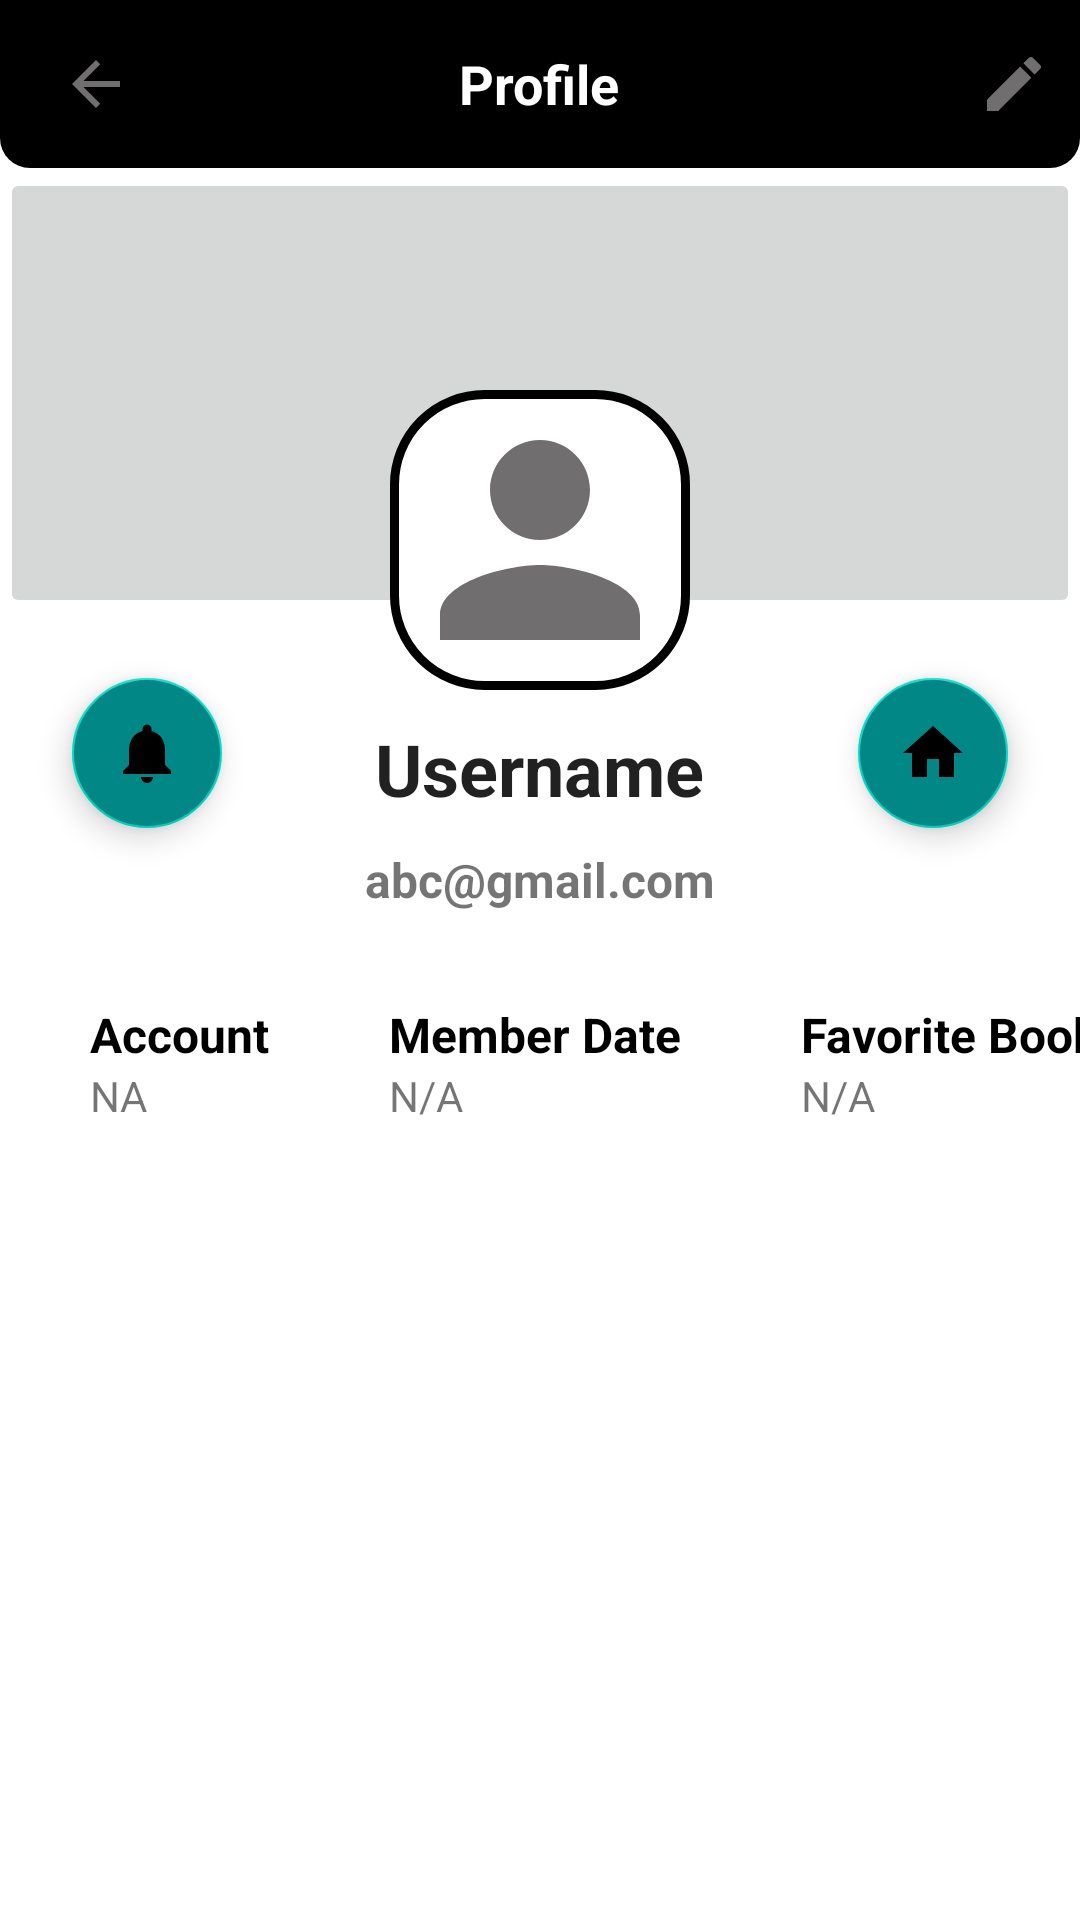

Icons on this 1080px x 1920px Android screen, each with the point to tap as [x,y]:
back: [96,84]
edit: [1014,84]
home: [933,753]
notify: [147,753]
person: [540,540]
